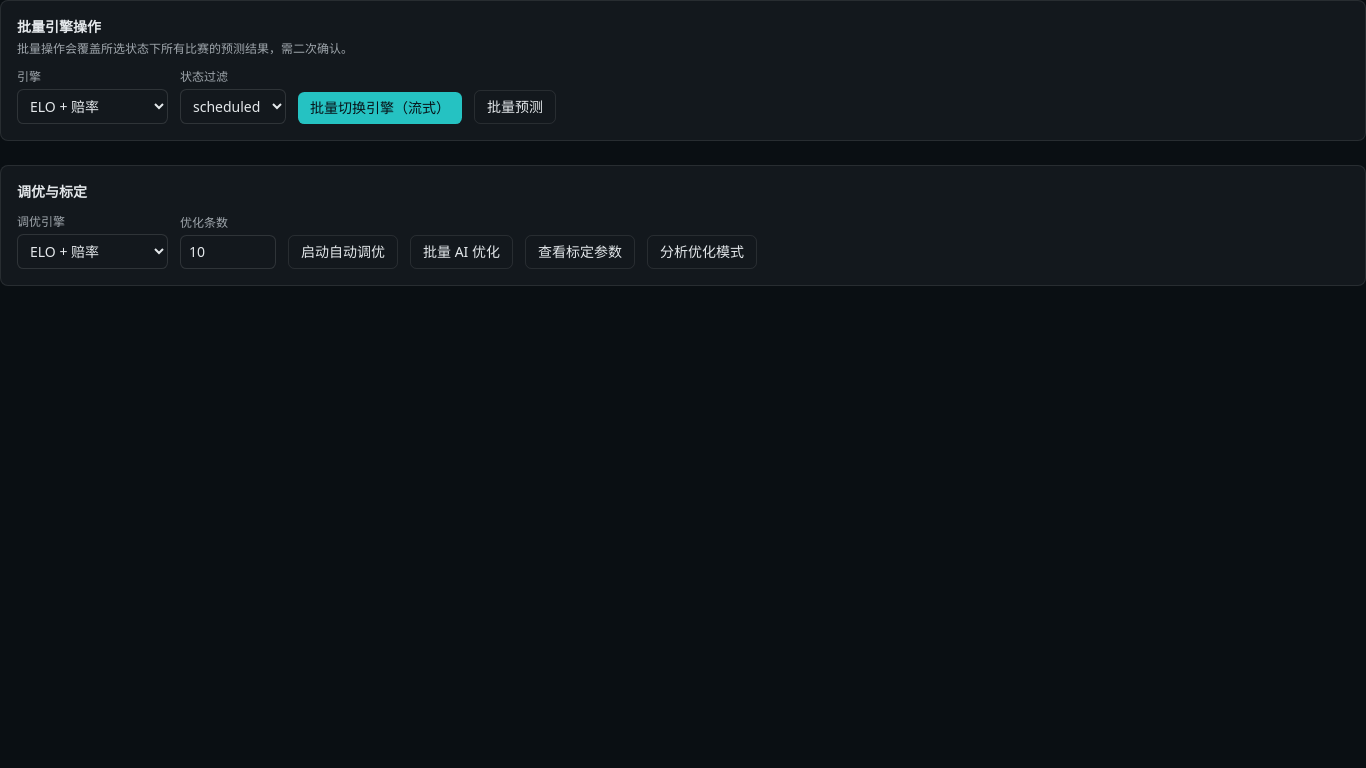
Test: EngineConsole › shows a bucket for every engine the batch summary reports
Step 1. Click the button with test id "batch-predict-button" → (515, 107), box [474,90,556,124]
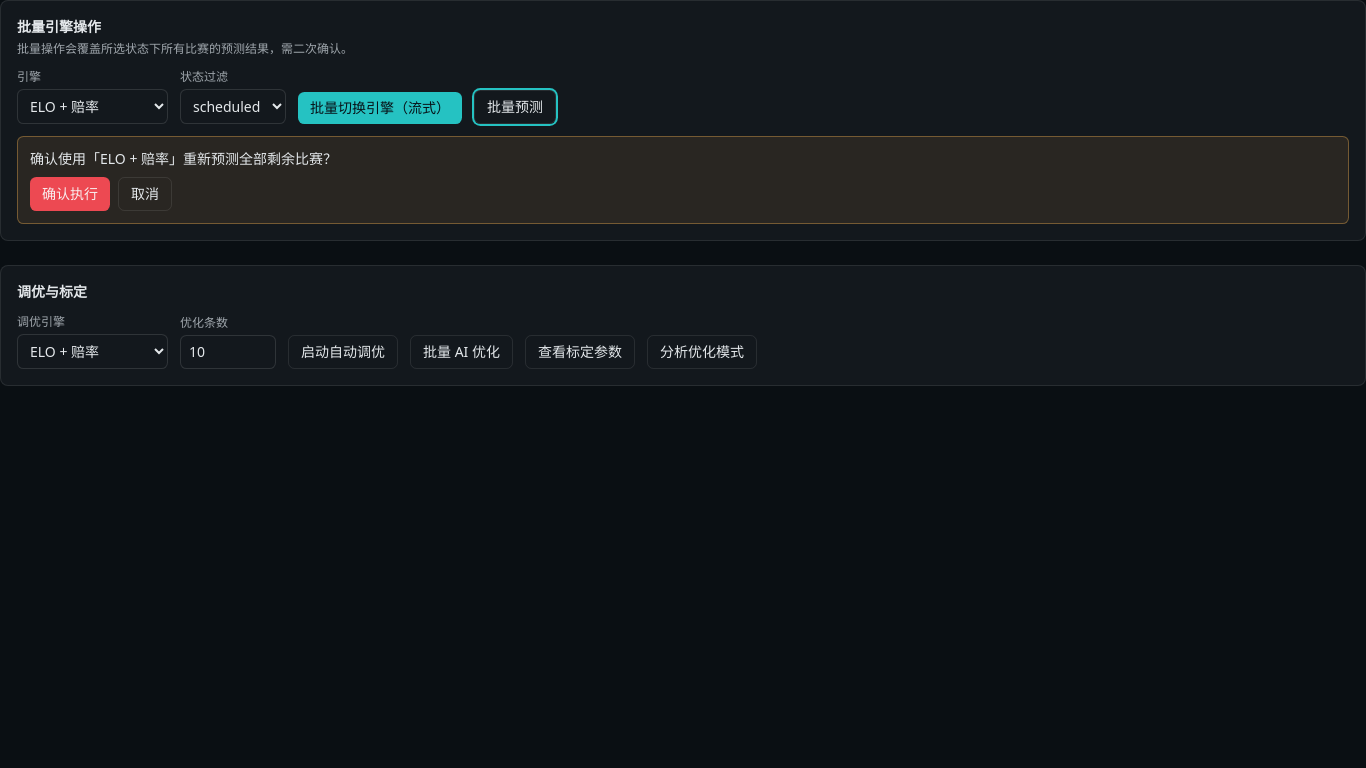
Step 2. Click the button with test id "engine-confirm-yes" → (70, 194), box [30,177,110,211]
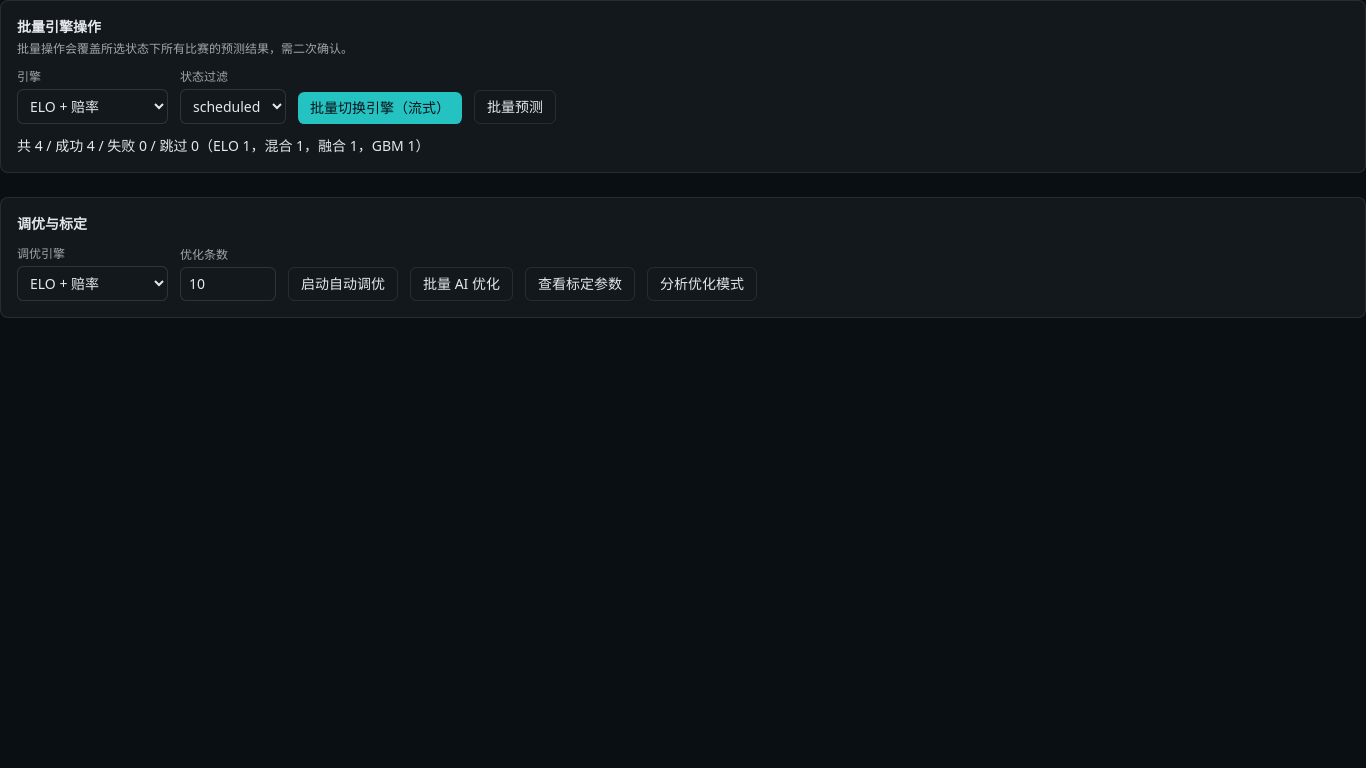
expect the text with test id "engine-summary" shows "ELO 1": met, box [17,136,429,155]
expect the text with test id "engine-summary" shows "混合 1": met, box [17,136,429,155]
expect the text with test id "engine-summary" shows "融合 1": met, box [17,136,429,155]
